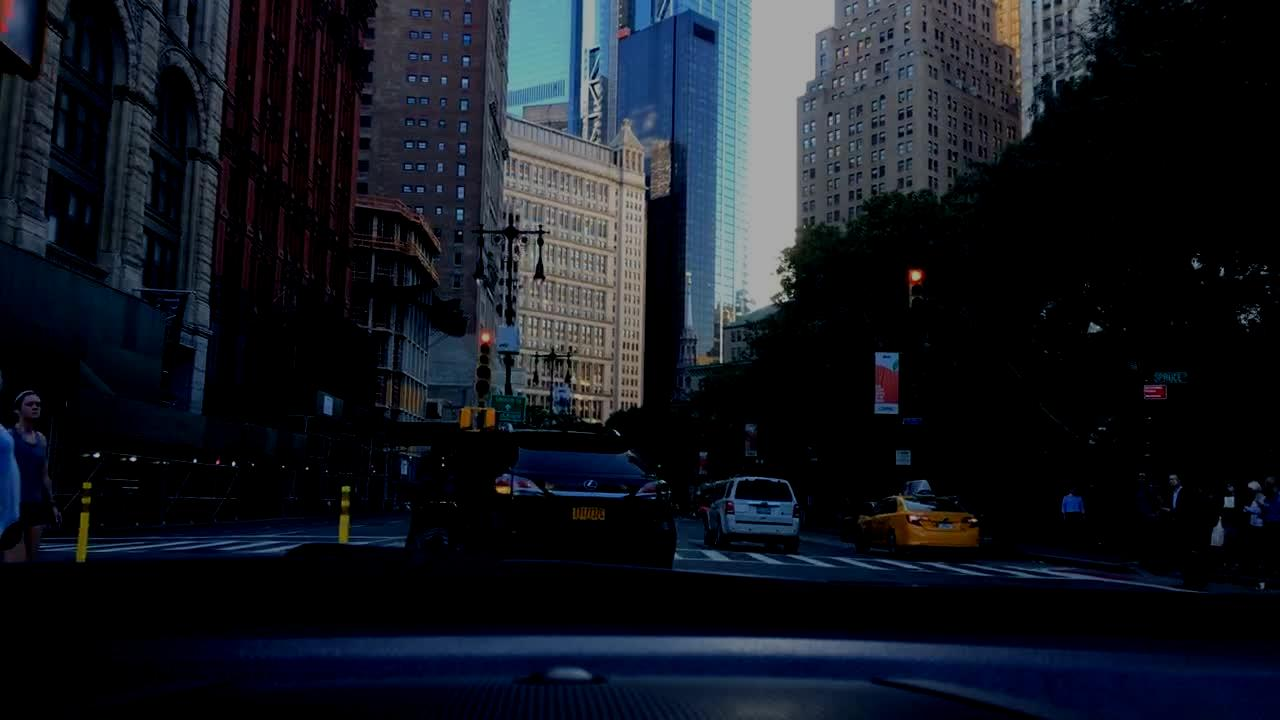lexus: (583, 478, 603, 495)
